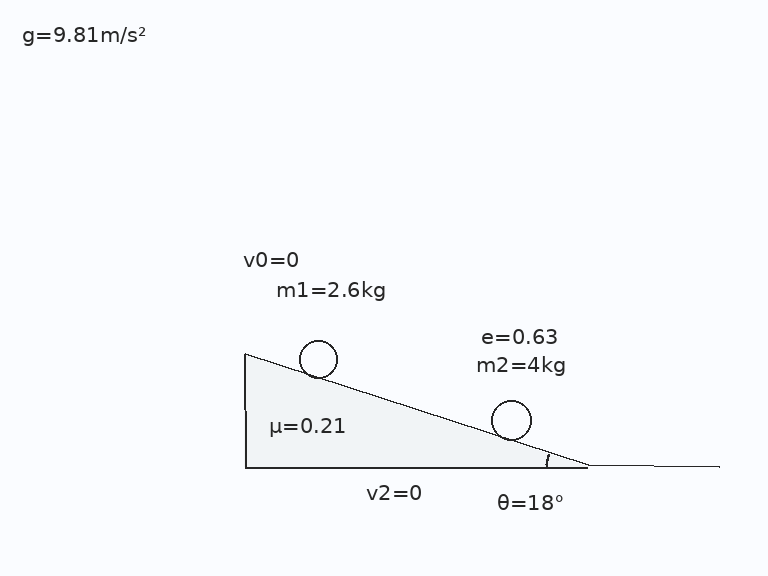ball: (489, 398, 533, 442), (297, 338, 339, 380)
ramp: (243, 353, 589, 468)
